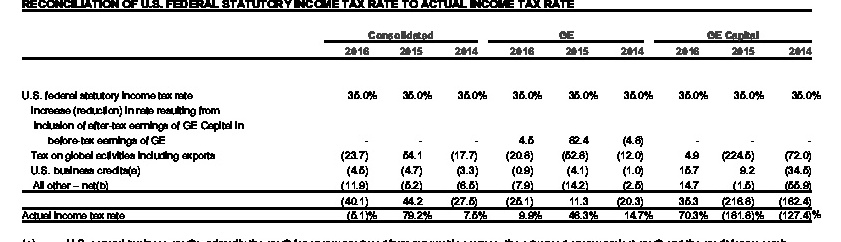table: (0, 0, 841, 242)
